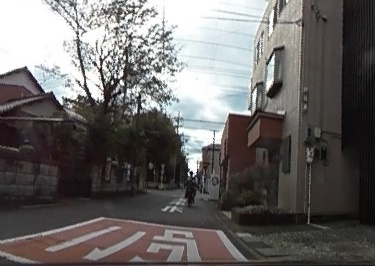person: (186, 171, 195, 201)
